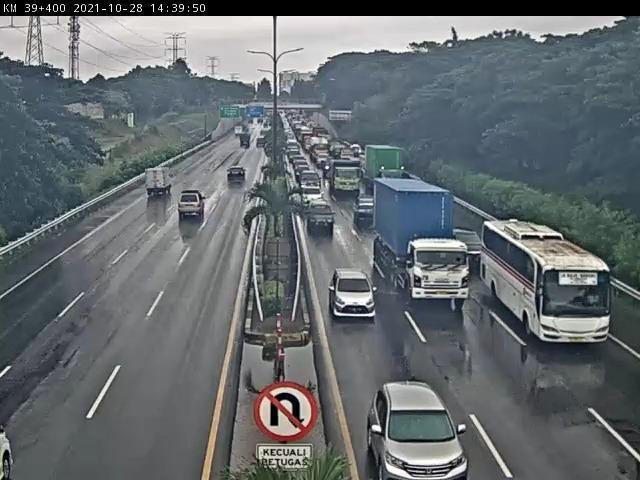bus: (482, 221, 612, 346)
car: (372, 381, 470, 480), (329, 270, 378, 321), (445, 225, 487, 266), (307, 203, 340, 235), (178, 191, 209, 219), (353, 195, 378, 224), (301, 169, 326, 193), (226, 167, 248, 184)
truck: (370, 178, 473, 306), (326, 160, 362, 194), (142, 166, 177, 198)
